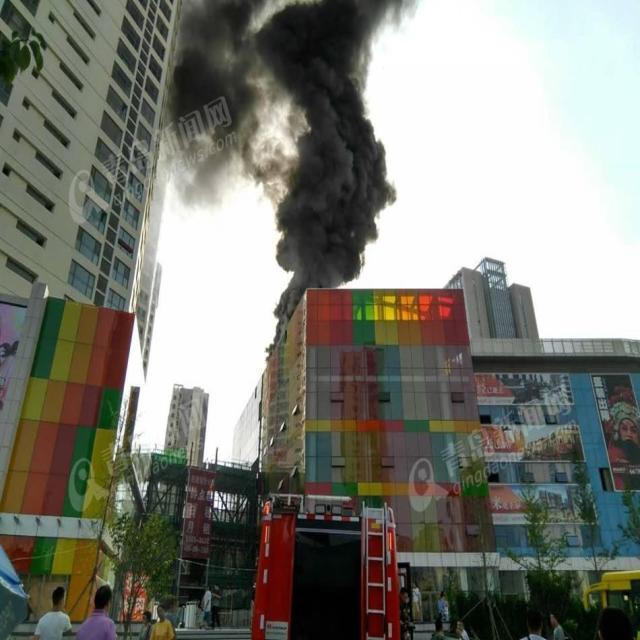Smoke: (160, 1, 420, 366)
